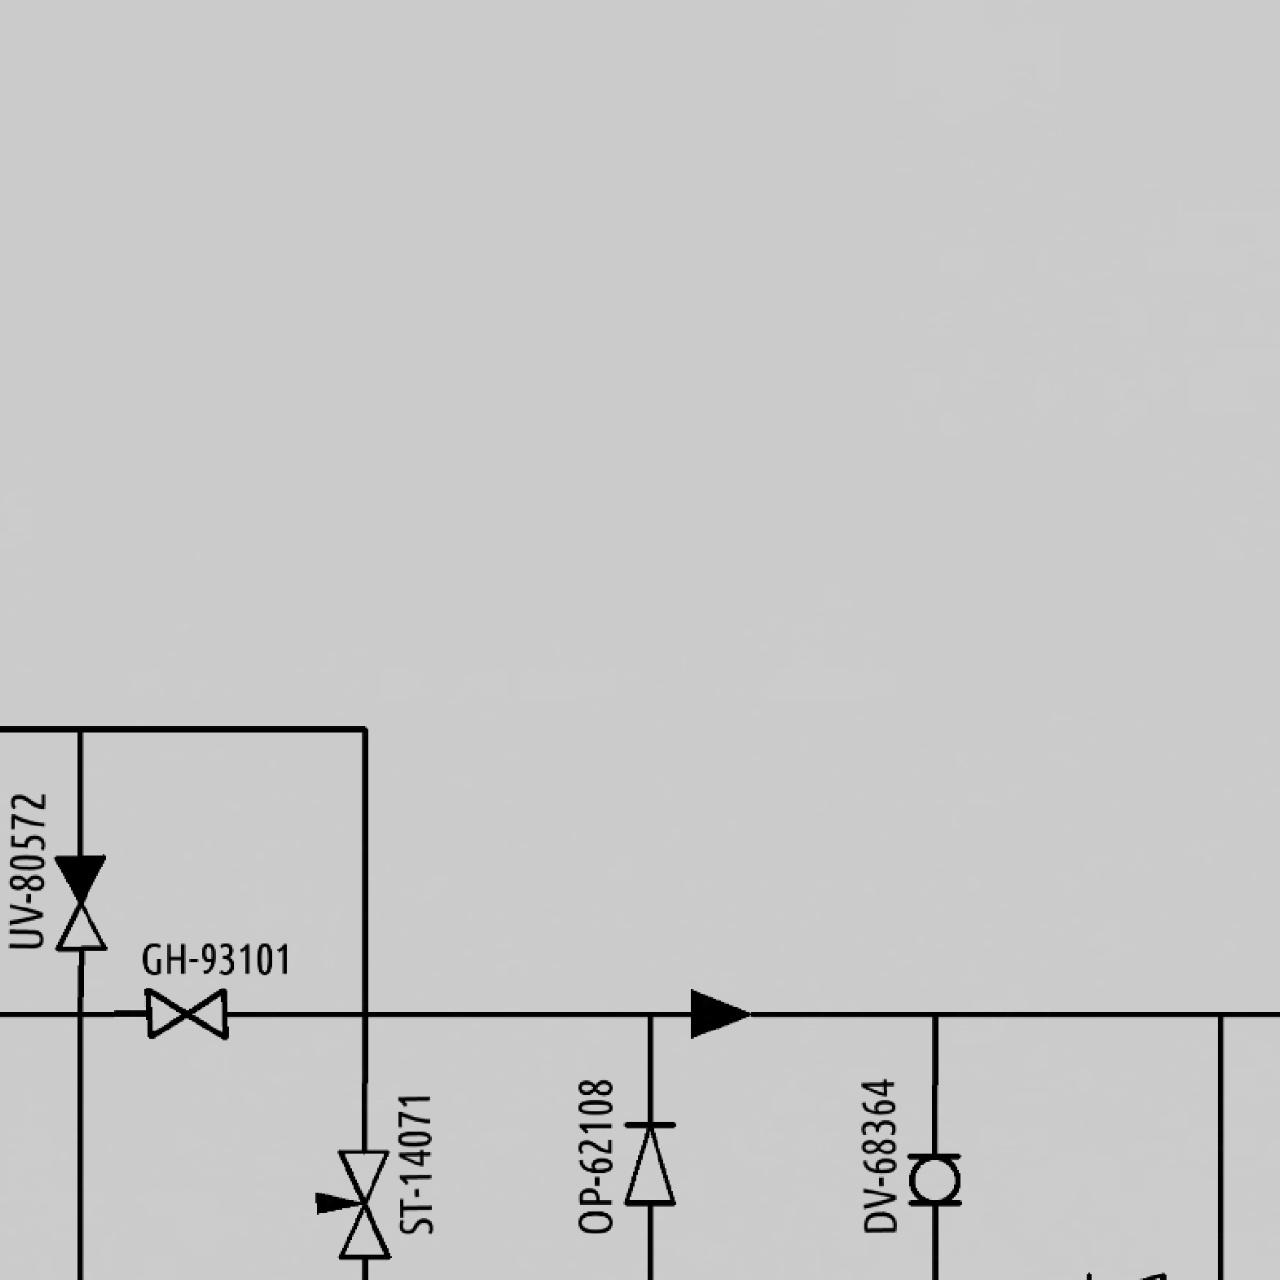Half closed valve: (48, 849, 110, 954)
